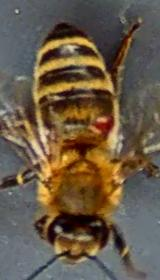varroa_mite: (86, 108, 130, 144)
